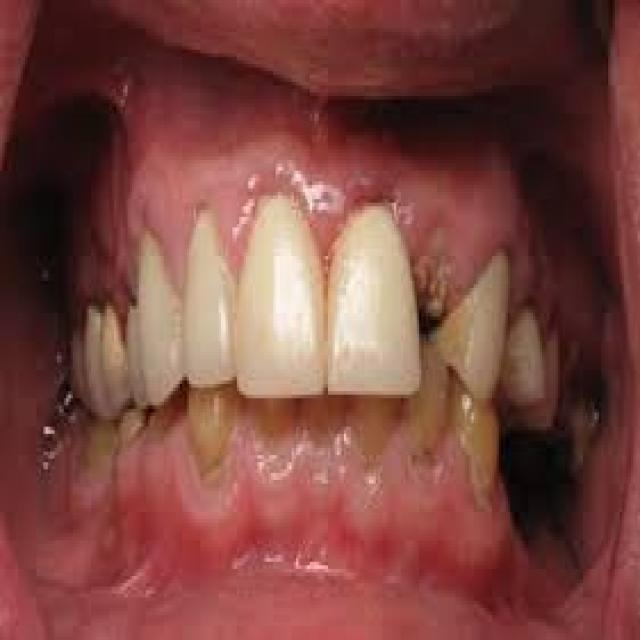tooth: (226, 188, 330, 394), (318, 217, 424, 402), (178, 206, 237, 384), (132, 224, 182, 416)
